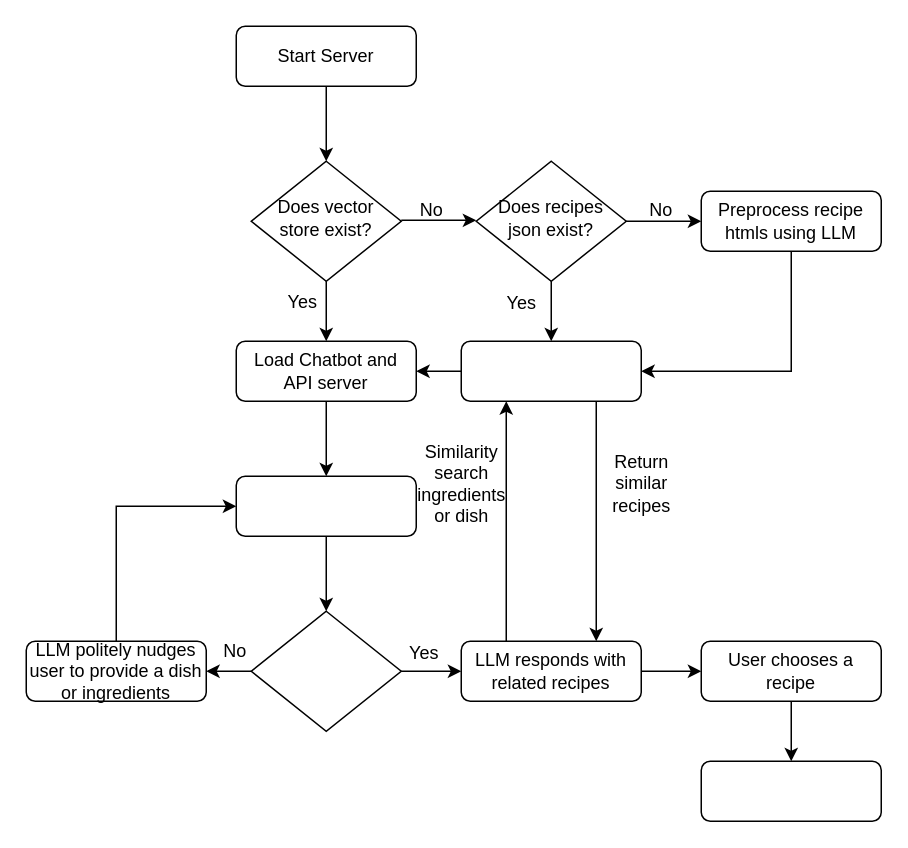
The diagram is 908 pixels wide and 848 high, and some of its shapes have lost their labels. The centre of each missing label's shape, as x and y in pixels:
"Contains ingredients or dishes?" goes at point (325, 670).
"Create ChromaDB vector store" goes at point (550, 370).
"LLM responds with the recipe information" goes at point (790, 790).
"User Query" goes at point (325, 505).
